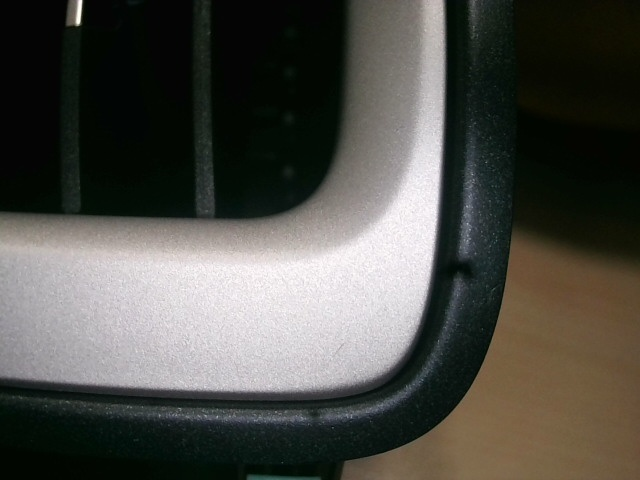NG: (327, 337, 358, 362), (488, 277, 505, 303)
